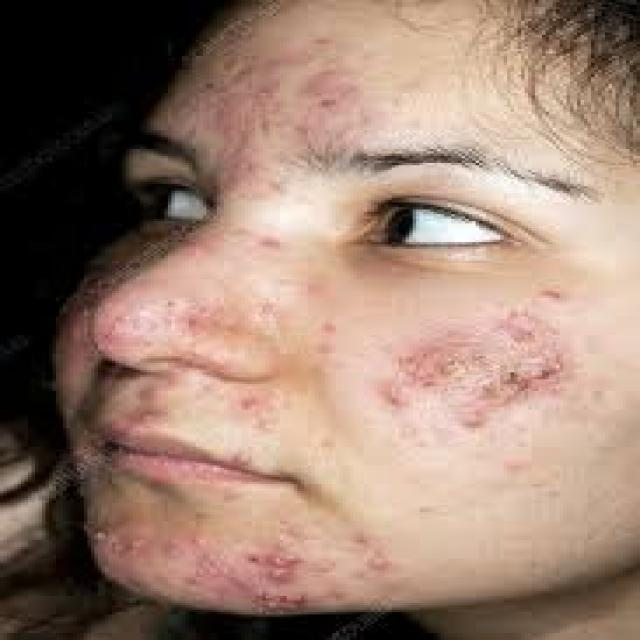Acne: (86, 512, 402, 623), (355, 294, 607, 433)
